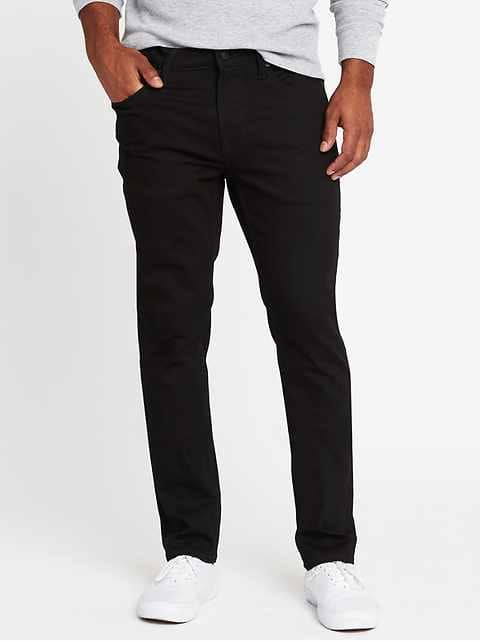jeans: (91, 42, 439, 570)
